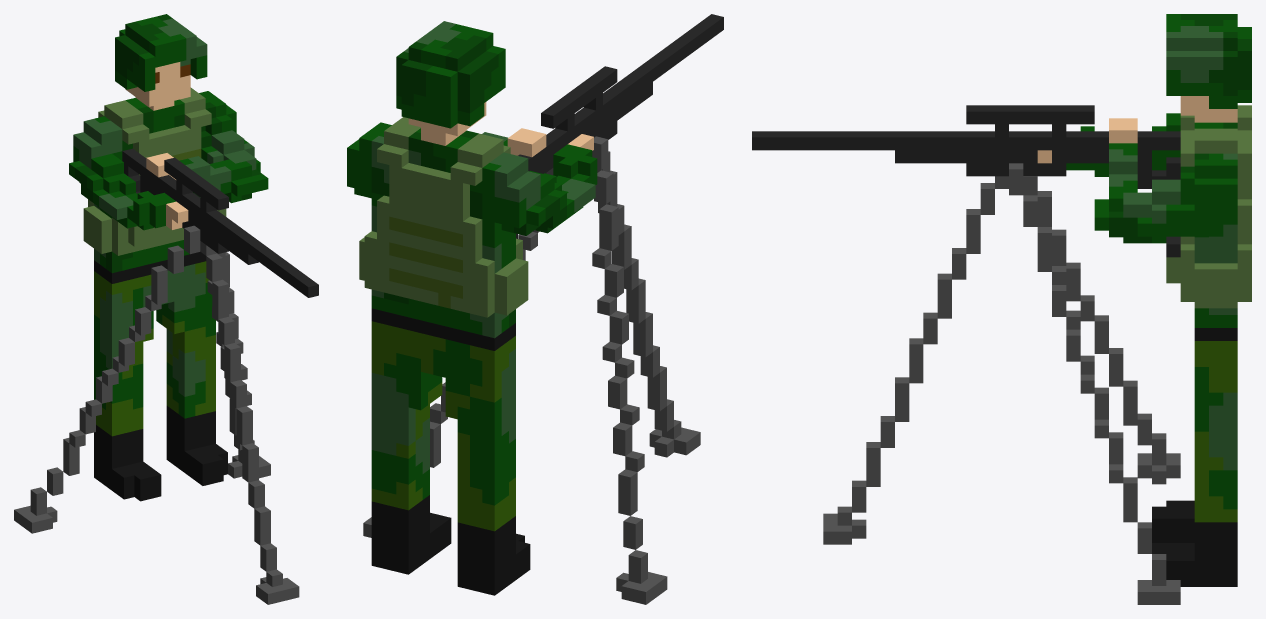
Rendered from sniper.vox.obj.
The picture shows the model from 3 angles, left to right: view 1: azimuth 30°, elevation 25°; view 2: azimuth 150°, elevation 25°; view 3: azimuth 270°, elevation 25°; orthographic projection. The views are drawn at different scales.
Size of the model in its own units: 2.3 by 4.1 by 3.5.
Materials: 1 (1 with a texture image).
